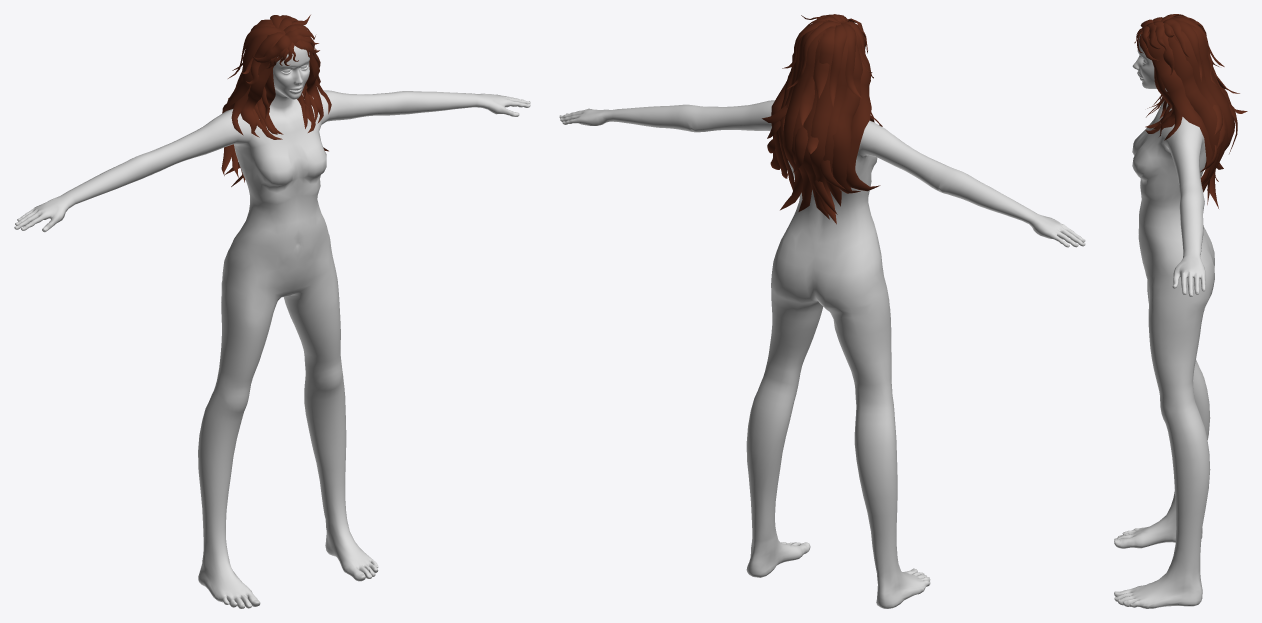
The model's file is Casey.fbx.
3 views of the same model, side by side, from view 1: azimuth 30°, elevation 25°; view 2: azimuth 150°, elevation 25°; view 3: azimuth 270°, elevation 25° (orthographic).
Visible parts, largest first — view 1: Human.001, backhair, NurbsPath.001, NurbsPath.002, NurbsPath; view 2: Human.001, backhair, NurbsPath.001; view 3: Human.001, backhair, NurbsPath.001, NurbsPath, NurbsPath.002.
Part boxes in pixels (box(x1,y1,x2,y2)): Human.001: box(14, 45, 530, 608); backhair: box(221, 19, 331, 186); NurbsPath.001: box(225, 15, 319, 174); NurbsPath.002: box(253, 60, 318, 139); NurbsPath: box(252, 28, 318, 68); Human.001: box(559, 100, 1085, 608); backhair: box(770, 26, 882, 224); NurbsPath.001: box(762, 14, 873, 214); Human.001: box(1114, 34, 1214, 608); backhair: box(1147, 19, 1234, 208); NurbsPath.001: box(1152, 14, 1247, 188); NurbsPath: box(1134, 19, 1159, 61); NurbsPath.002: box(1145, 69, 1172, 133).
Size of the model in its own units: 178 by 183 by 39.92.
